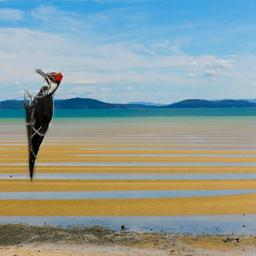Woodpecker: (24, 68, 64, 186)
